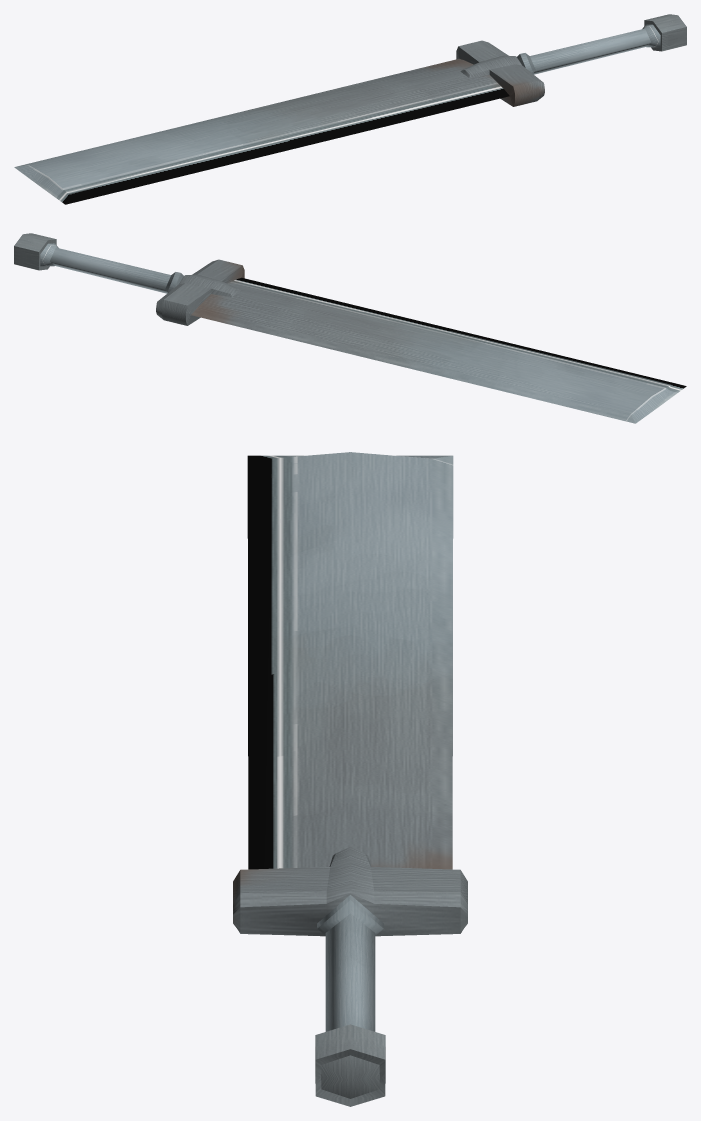
The model's file is Flat Iron.FBX.
The picture shows the model from 3 angles, top to bottom: view 1: azimuth 30°, elevation 25°; view 2: azimuth 150°, elevation 25°; view 3: azimuth 270°, elevation 25°; orthographic projection. The views are drawn at different scales.
Parts seen in each view (by area): view 1: Flat Iron; view 2: Flat Iron; view 3: Flat Iron.
Part boxes in pixels (x1,y1,x2,y2): Flat Iron: (14, 14, 686, 204); Flat Iron: (14, 233, 686, 423); Flat Iron: (233, 452, 467, 1106).
Bounding box in the file's own units: 153 × 6.66 × 24.27.
